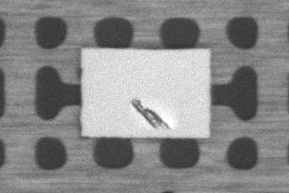DIE_INK: (190, 63, 271, 87)
